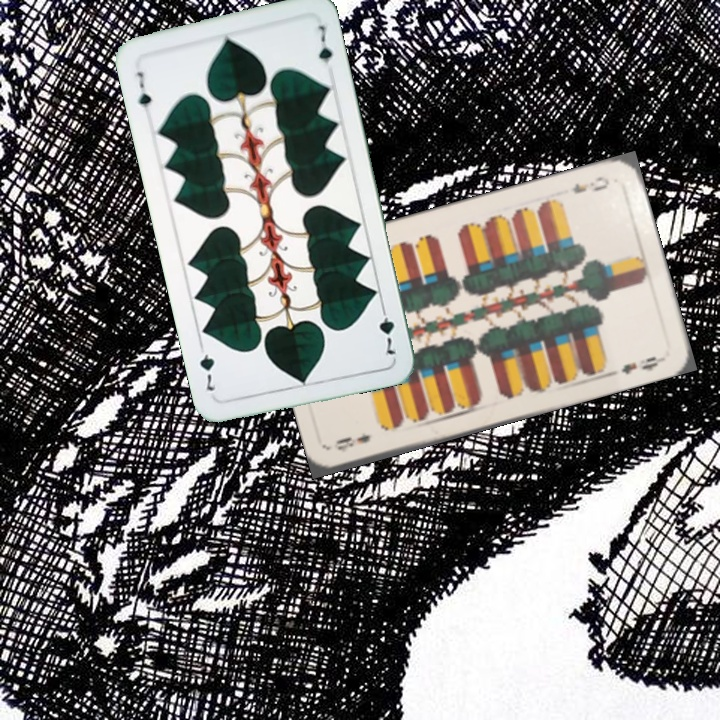E9: (568, 172, 612, 196), (332, 430, 373, 455)
G7: (375, 300, 399, 359), (132, 67, 154, 110)
